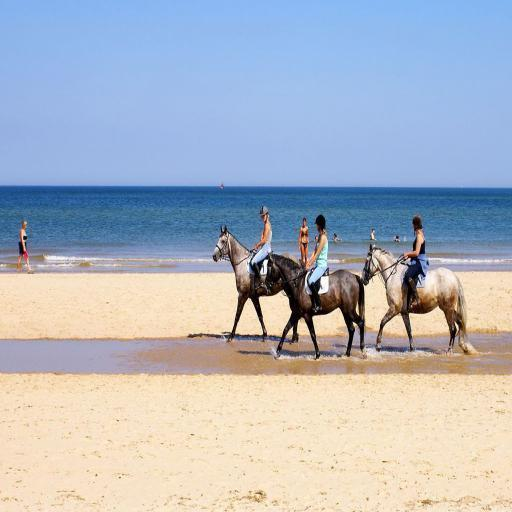horse: (360, 240, 468, 354), (262, 248, 366, 360), (212, 224, 308, 344)
